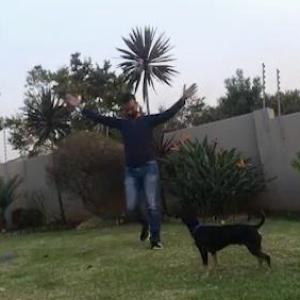takeoff: (63, 82, 198, 237)
